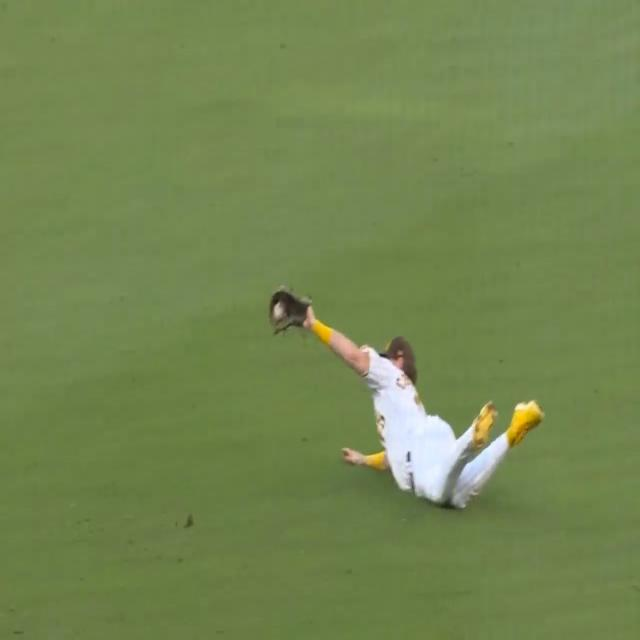baseball: (273, 301, 285, 320)
